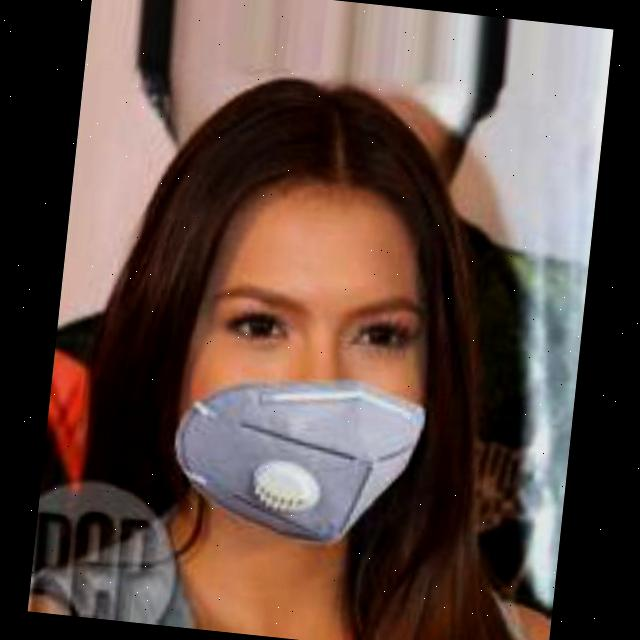suspicion: (116, 131, 471, 570)
